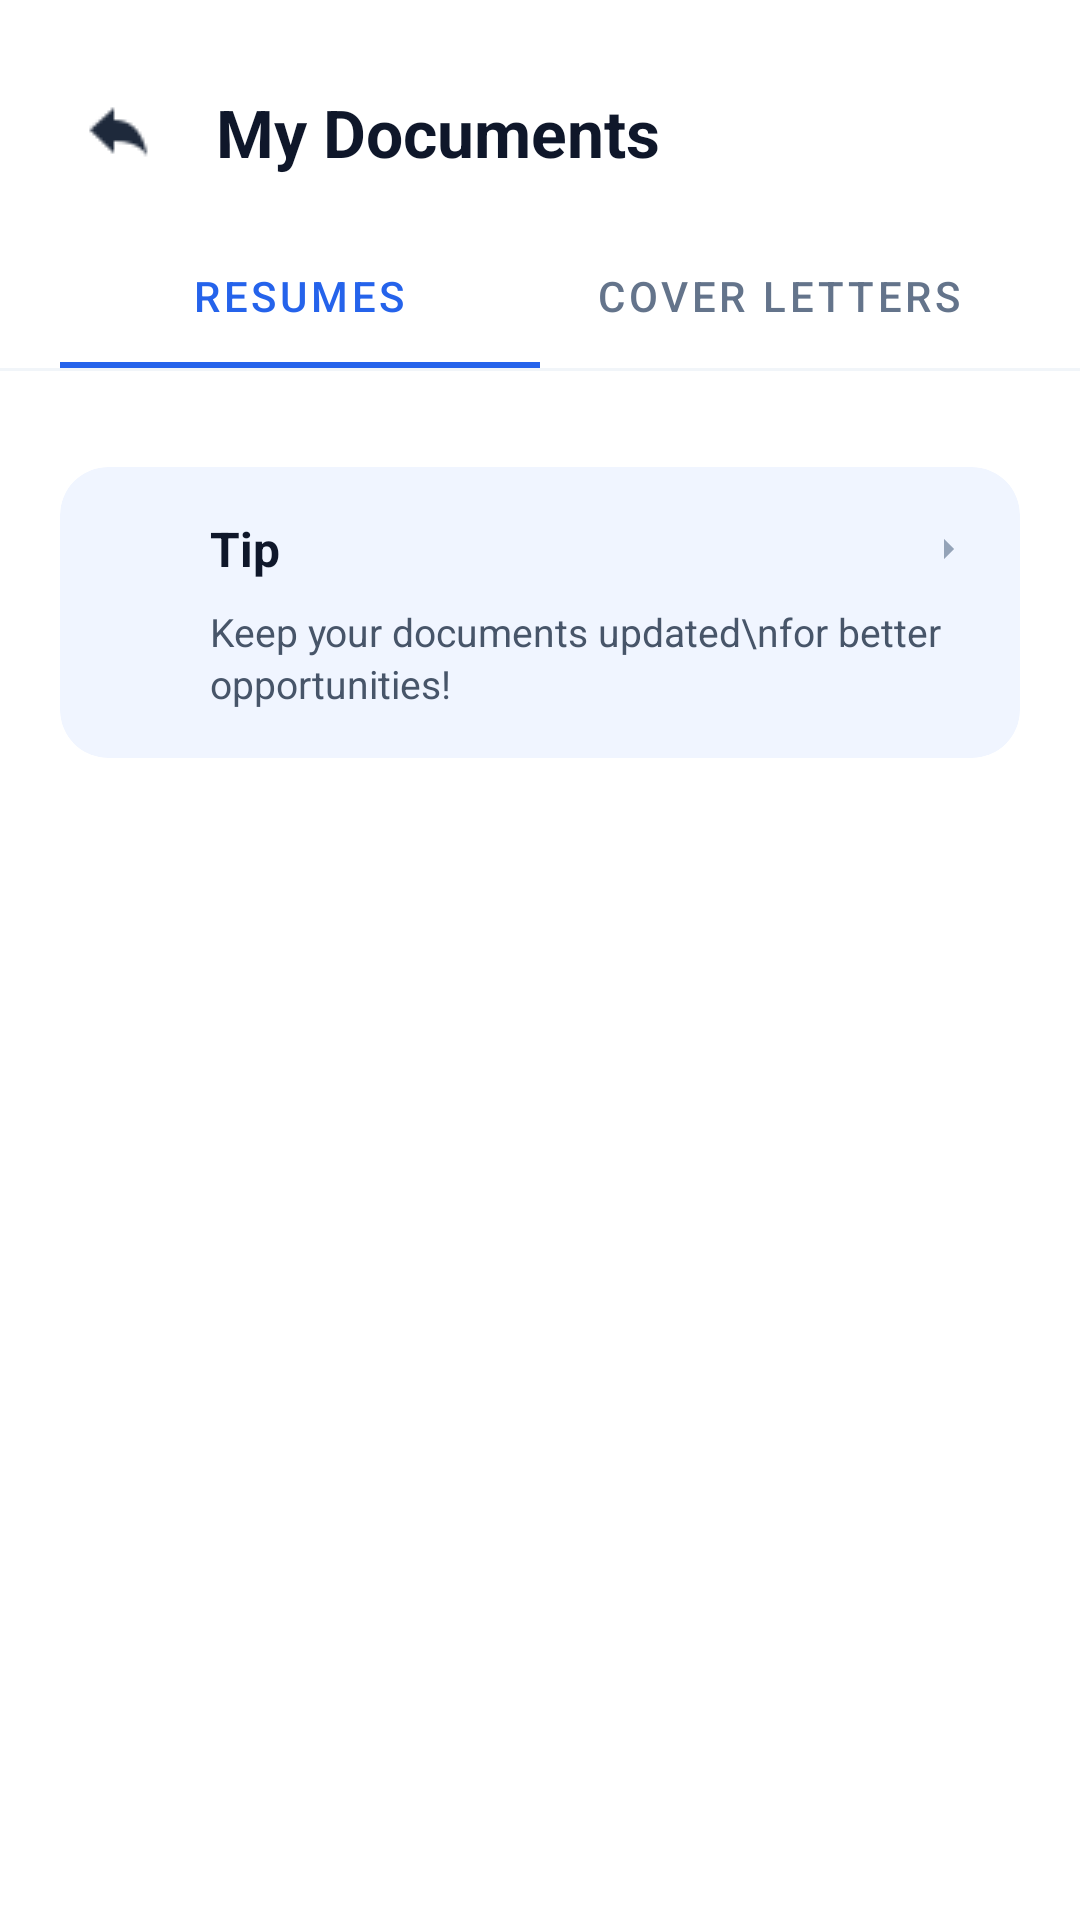

Locate icon controls on the screen. Image size 1080w x 1920h, boxes as (x1, y1, x2, y2).
Back: (89, 107, 148, 156)
